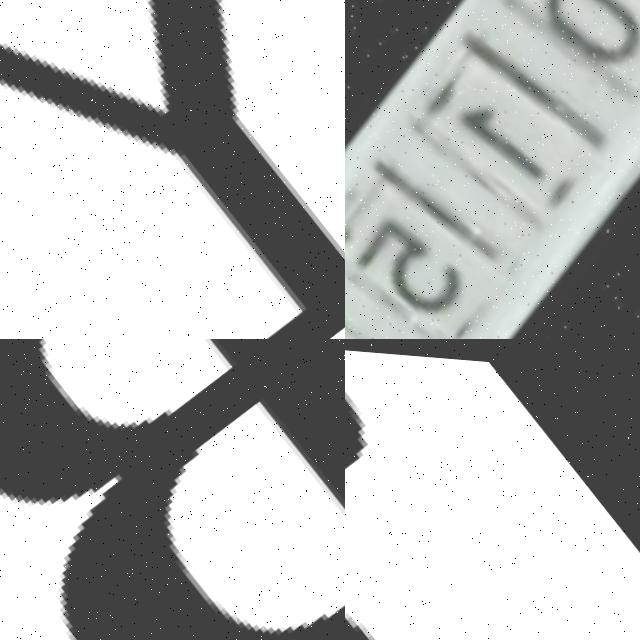0: (518, 0, 640, 91)
1: (432, 51, 575, 210)
5: (345, 180, 490, 339)
B: (0, 339, 345, 640)
Y: (0, 0, 345, 339)
